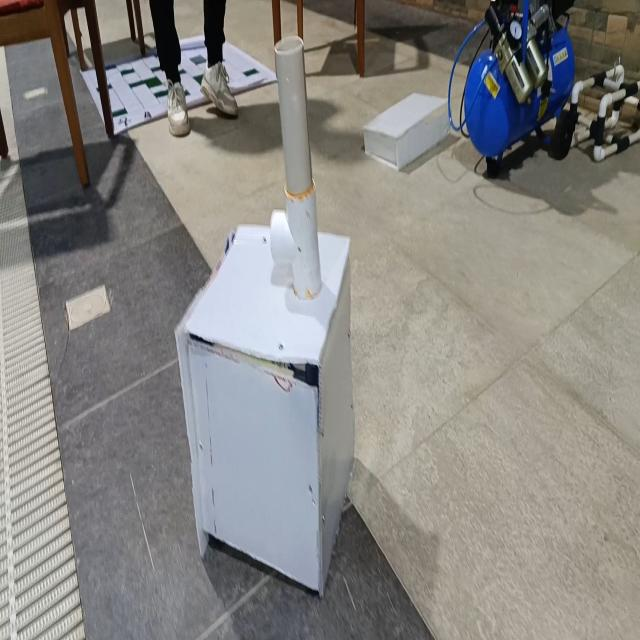Cube: (174, 212, 357, 599)
Cuboid: (362, 90, 451, 171)
